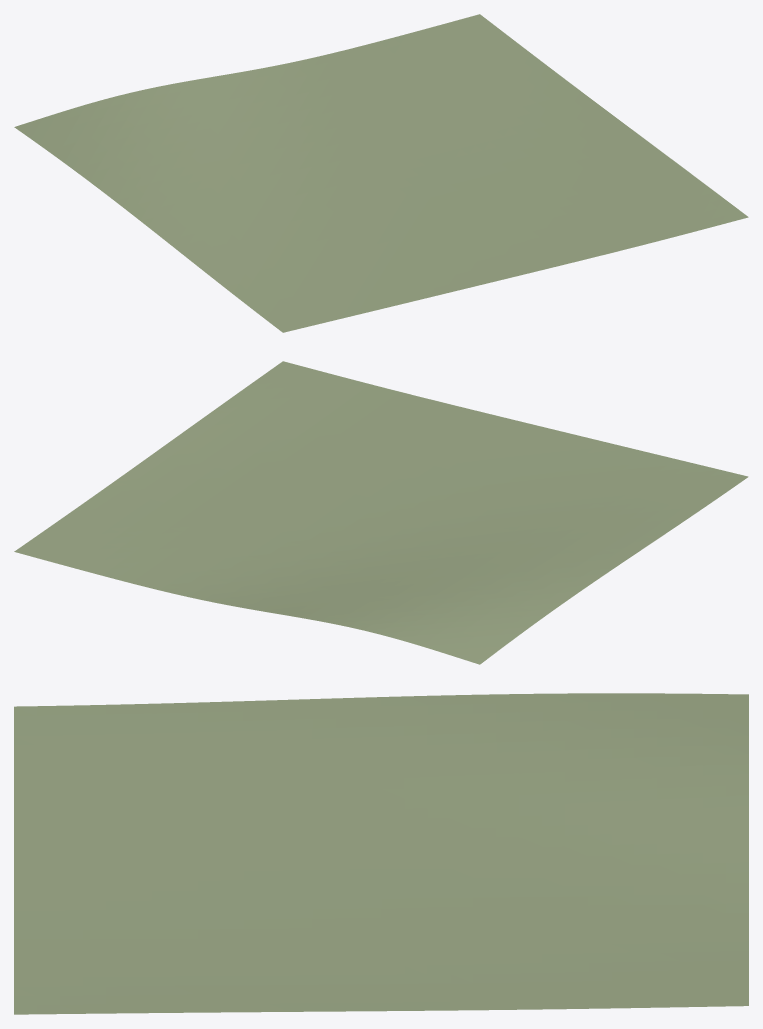
Rendered from desert-5-11.glb.
The picture shows the model from 3 angles, top to bottom: view 1: azimuth 30°, elevation 25°; view 2: azimuth 150°, elevation 25°; view 3: azimuth 270°, elevation 25°; orthographic projection. The views are drawn at different scales.
Visible parts, largest first — view 1: desert-5-11; view 2: desert-5-11; view 3: desert-5-11.
Boxes of the visible parts, bbox=[...] form: desert-5-11: bbox=[14, 14, 748, 332]; desert-5-11: bbox=[14, 361, 748, 664]; desert-5-11: bbox=[14, 693, 748, 1014].
Bounding box in the file's own units: 512 × 16.03 × 512.
